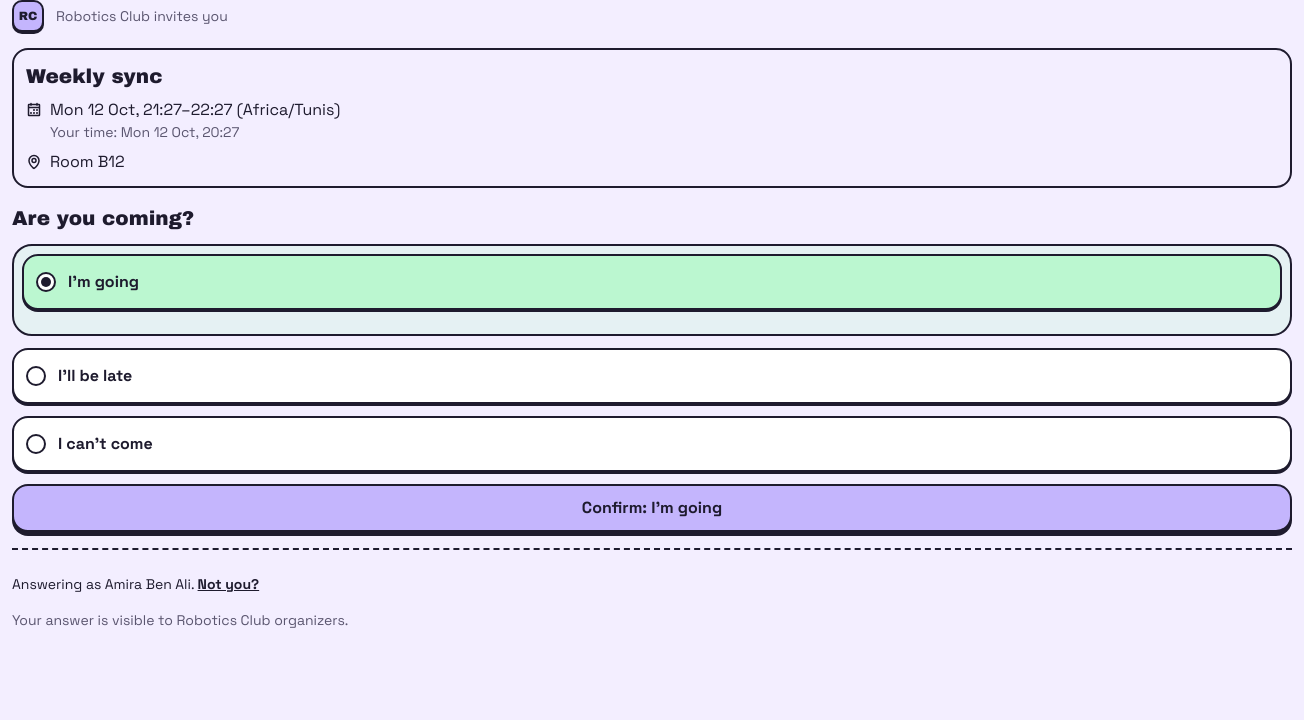
Scenario: AnswerView › moves to the closed state when the server says answers closed meanwhile
Click the button "Confirm: I'm going" at (652, 508), box left=12, top=484, right=1292, bottom=532
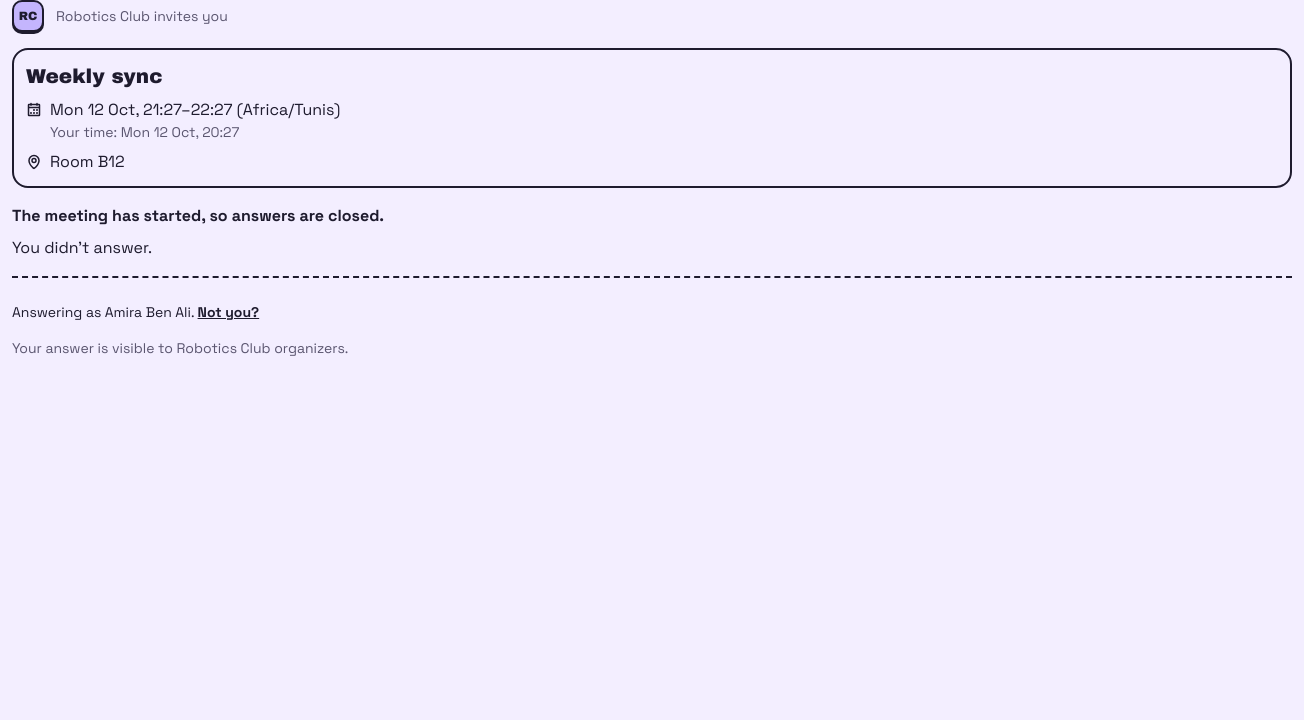
expect the text "The meeting has started, so answers are closed." is shown: met, box left=12, top=205, right=384, bottom=226
